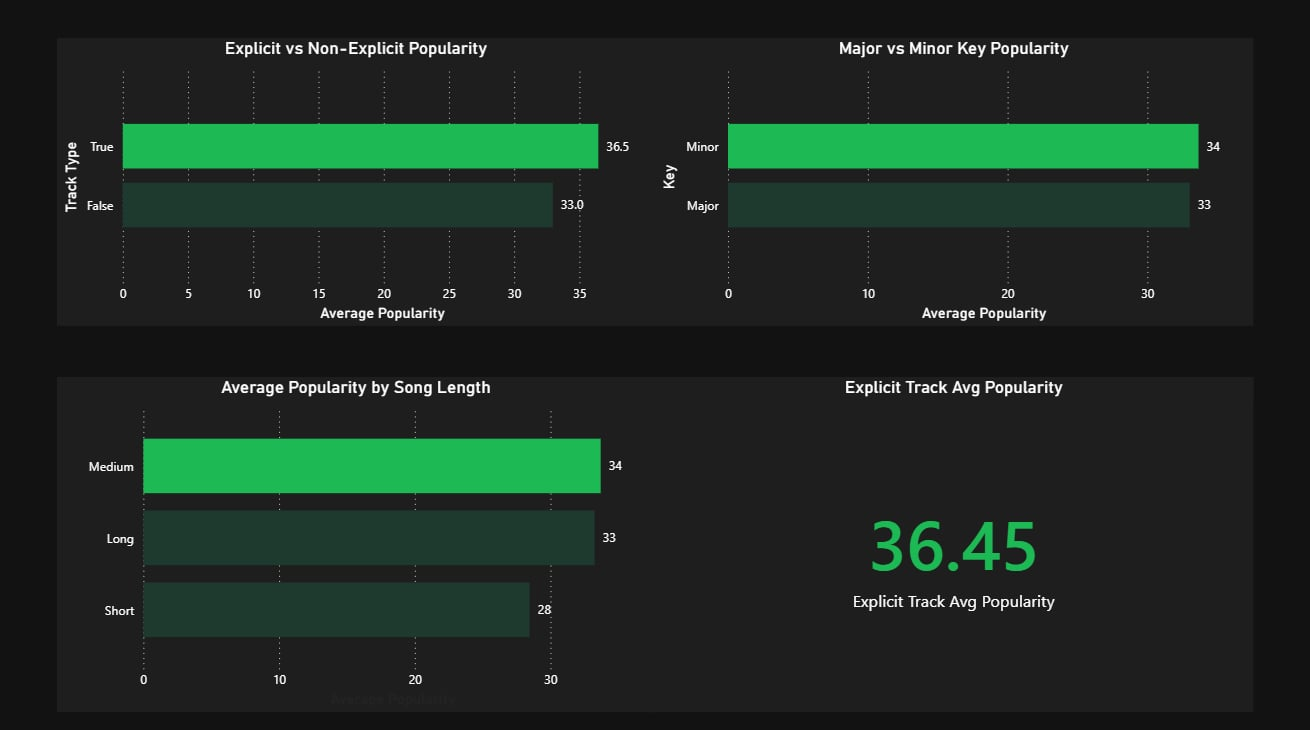

Layout of this report page (visuals, bound fields, positions):
{"tool":"powerbi","page":{"name":"Popularity Analysis","canvas":[1280,720],"ordinal":0},"visuals":[{"type":"clusteredBarChart","title":"Explicit vs Non-Explicit Popularity","fields":{"Category":["popularity_by_explicit.explicit"],"Y":["Sum(popularity_by_explicit.avg_popularity)"]},"box":[58.4,41.8,581.6,280.1],"z":0},{"type":"clusteredBarChart","title":"Average Popularity by Song Length","fields":{"Category":["song_length_vs_popularity.duration_bucket"],"Y":["Sum(song_length_vs_popularity.avg_popularity)"]},"box":[58.4,371.6,581.6,325.8],"z":1000},{"type":"clusteredBarChart","title":"Major vs Minor Key Popularity","fields":{"Category":["popularity_by_mode.mode_label"],"Y":["Sum(popularity_by_mode.avg_popularity)"]},"box":[640,41.8,581.6,280.1],"z":2000},{"type":"cardVisual","title":"Explicit Track Avg Popularity","fields":{"Data":["Avg(popularity_by_explicit.avg_popularity)"]},"box":[640,371.6,581.6,325.8],"z":3000}]}

Visuals, with their boxes in screenshot pixels (x1, y1, x2, y2), scaled from the page's 1280x720 canvas onto the 1310x730 screenshot:
"Explicit vs Non-Explicit Popularity" clusteredBarChart: x1=60 y1=42 x2=655 y2=326
"Average Popularity by Song Length" clusteredBarChart: x1=60 y1=377 x2=655 y2=707
"Major vs Minor Key Popularity" clusteredBarChart: x1=655 y1=42 x2=1250 y2=326
"Explicit Track Avg Popularity" cardVisual: x1=655 y1=377 x2=1250 y2=707
